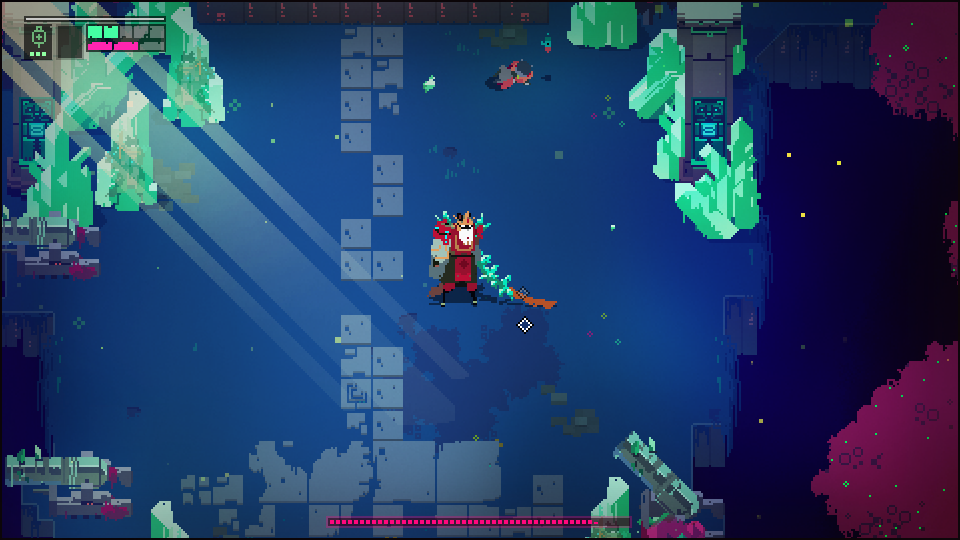hanged_man: (424, 204, 518, 316)
player: (481, 59, 537, 97)
